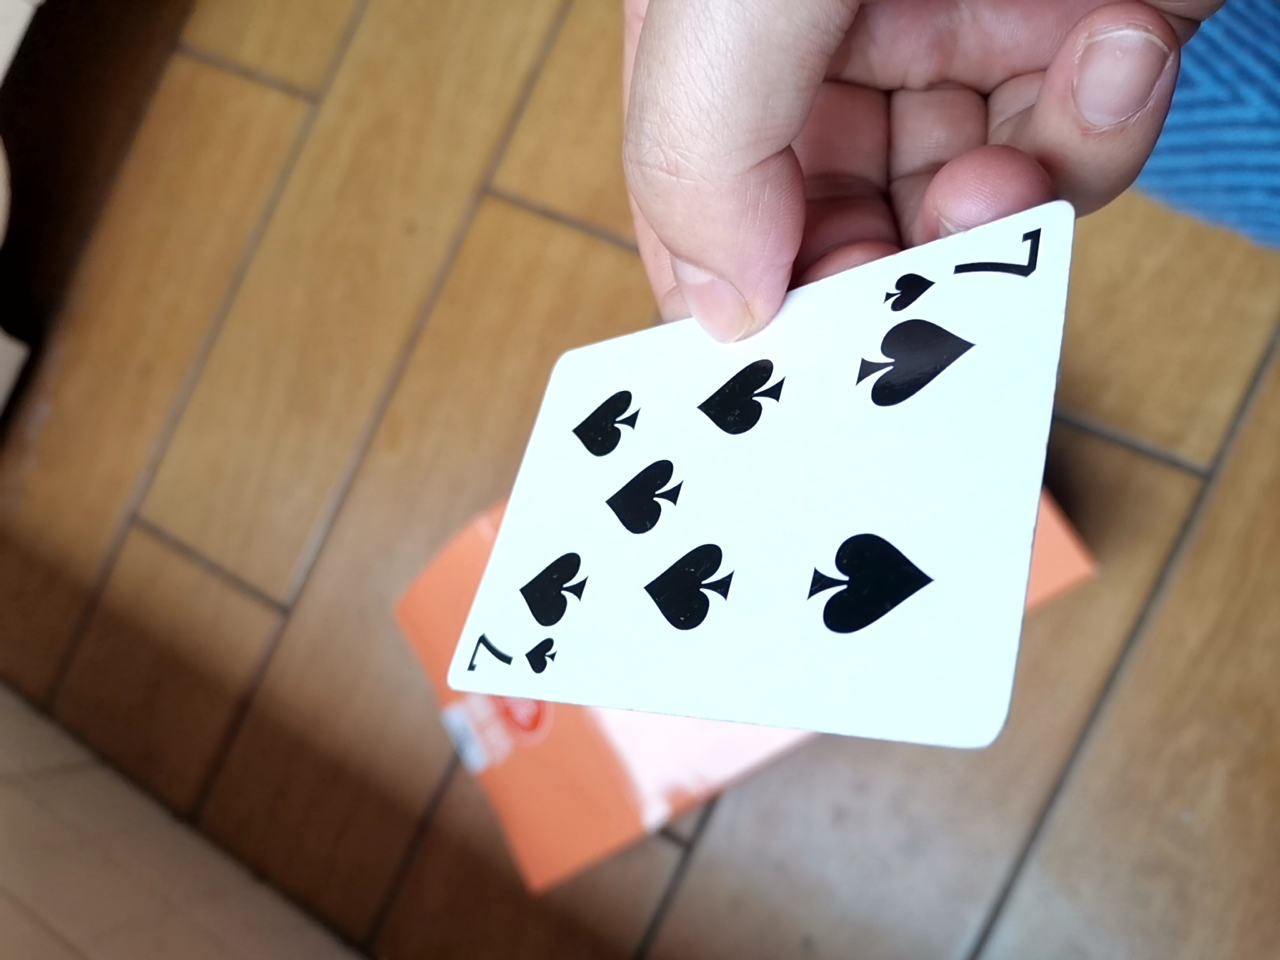ht 7: (433, 236, 1075, 797)
